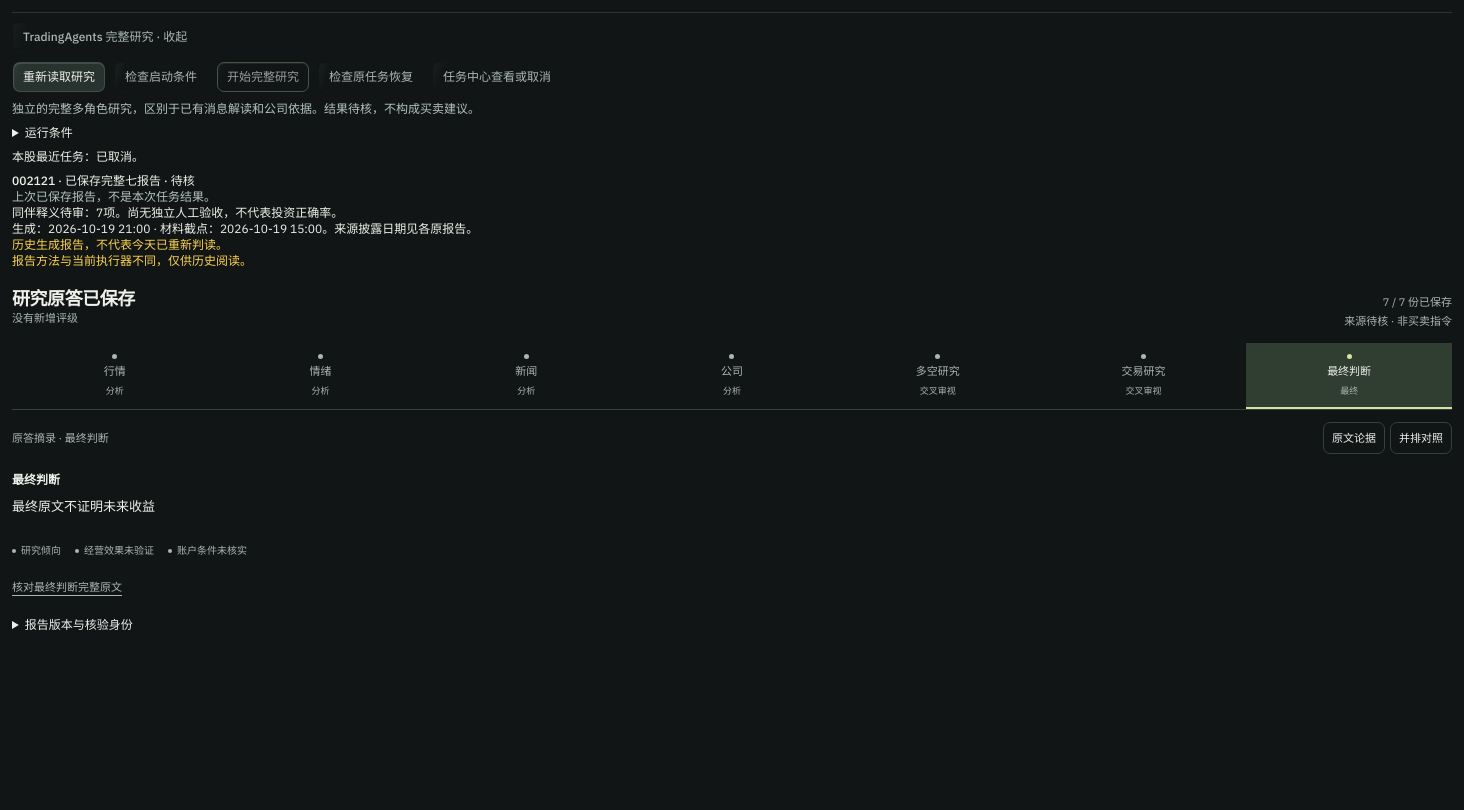
完整研究的维护恢复与任务关联 › server recovery state blocked never becomes an actionable recovery
Click the button "检查原任务恢复" at (371, 77), box x1=318 y1=61 x2=424 y2=93
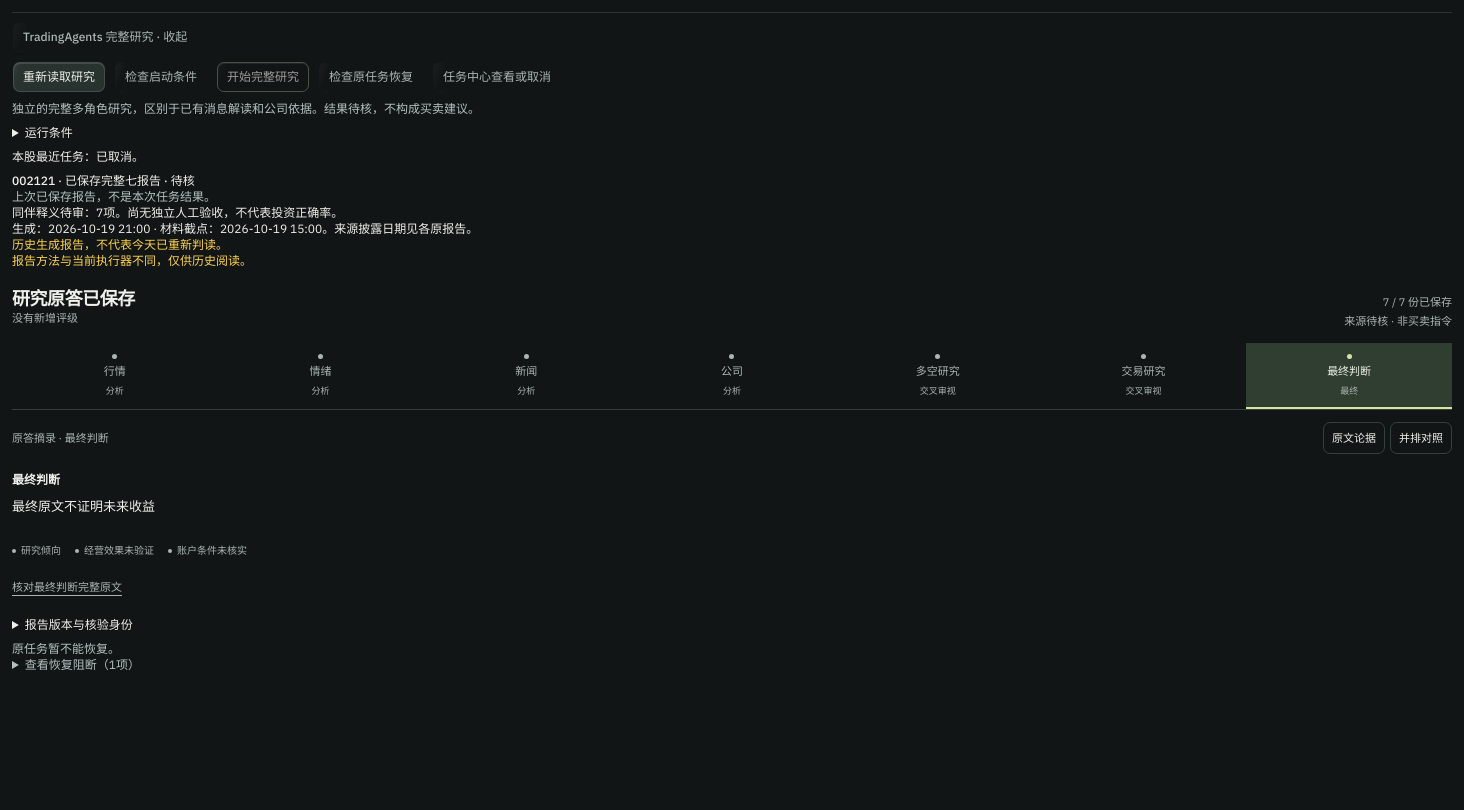
Now the element named "原任务恢复条件" is shown, box x1=12 y1=641 x2=140 y2=672
